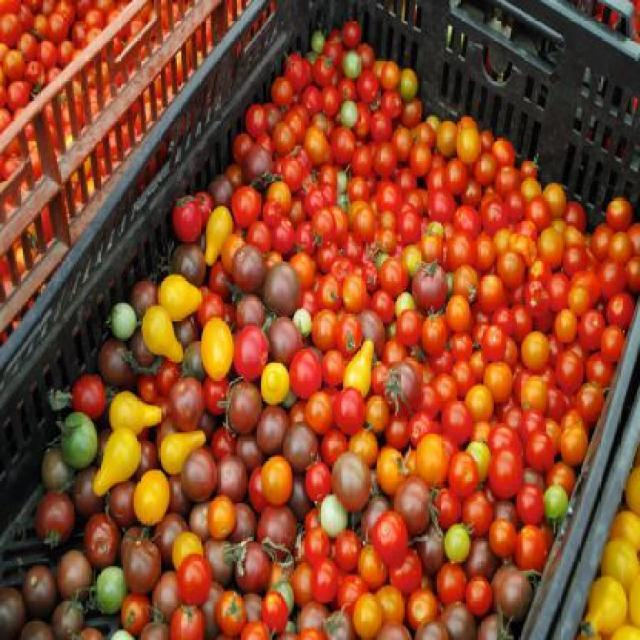Tomato: (0, 16, 640, 639), (0, 0, 272, 347)
